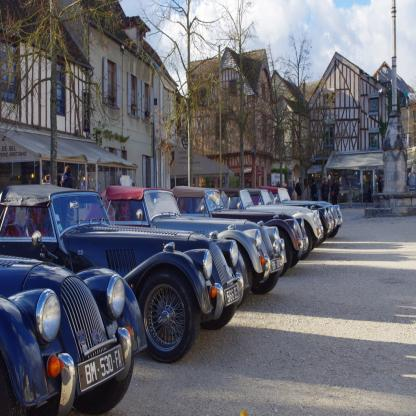Car: (1, 183, 344, 416)
